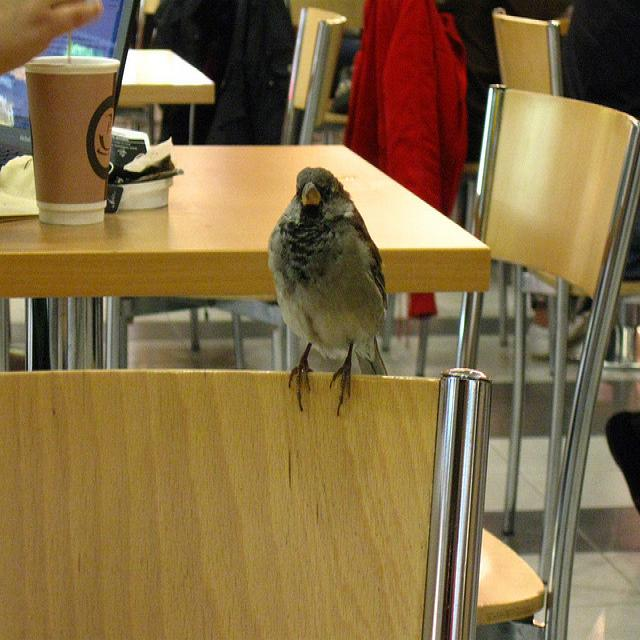chair: (0, 384, 484, 631), (456, 81, 640, 632), (277, 6, 350, 147), (489, 8, 563, 97)
dining table: (0, 147, 491, 365), (122, 44, 216, 144)
